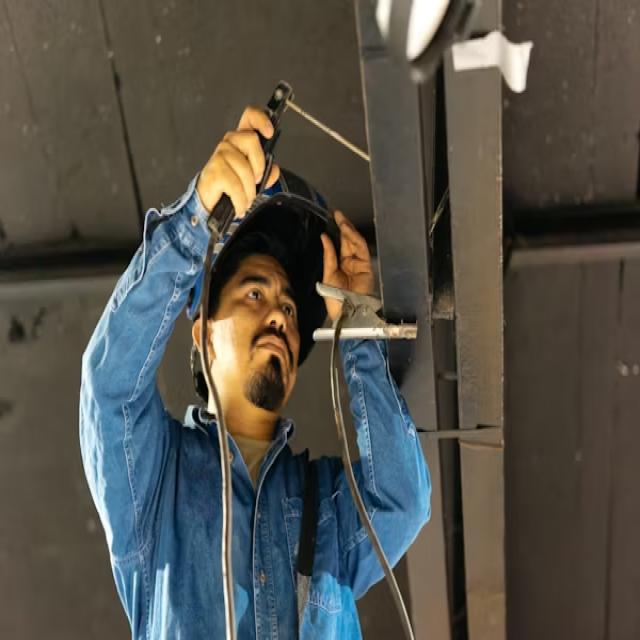helmet_lifted: (181, 158, 354, 432)
